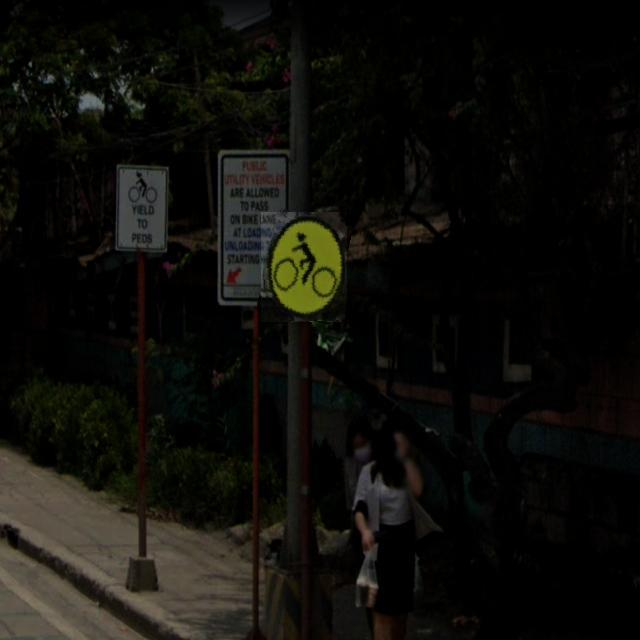bike lane: (262, 212, 348, 322)
